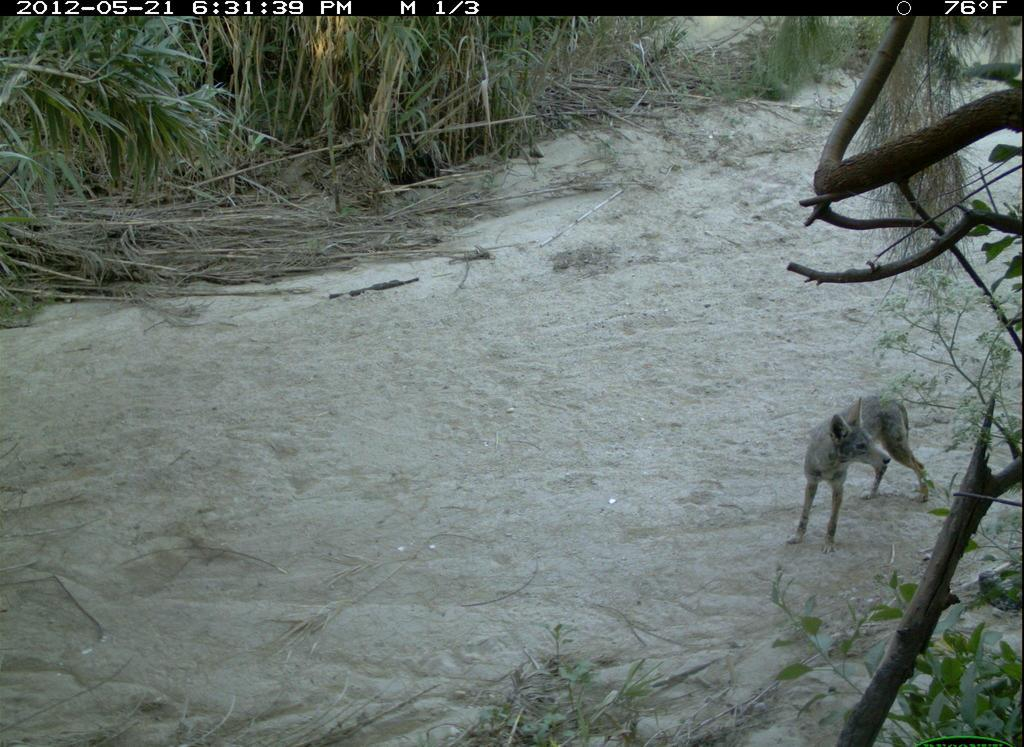coyote: (789, 393, 936, 555)
